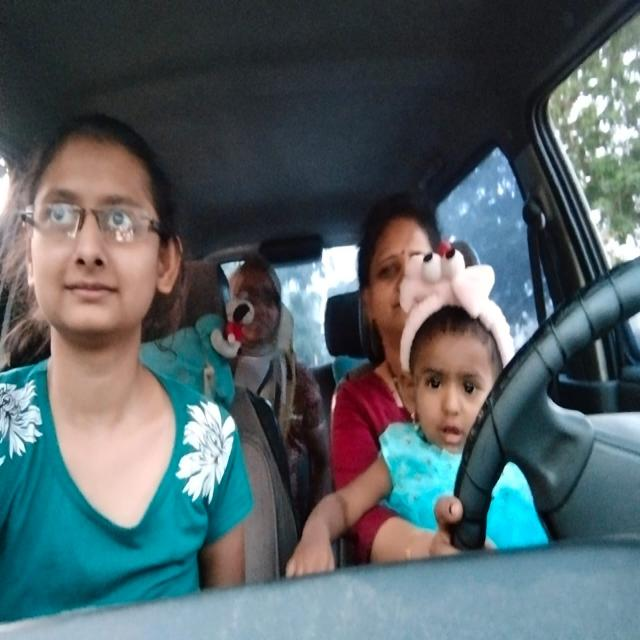child: (400, 305, 507, 456)
person: (17, 110, 176, 342), (357, 212, 452, 324), (228, 257, 290, 345)
